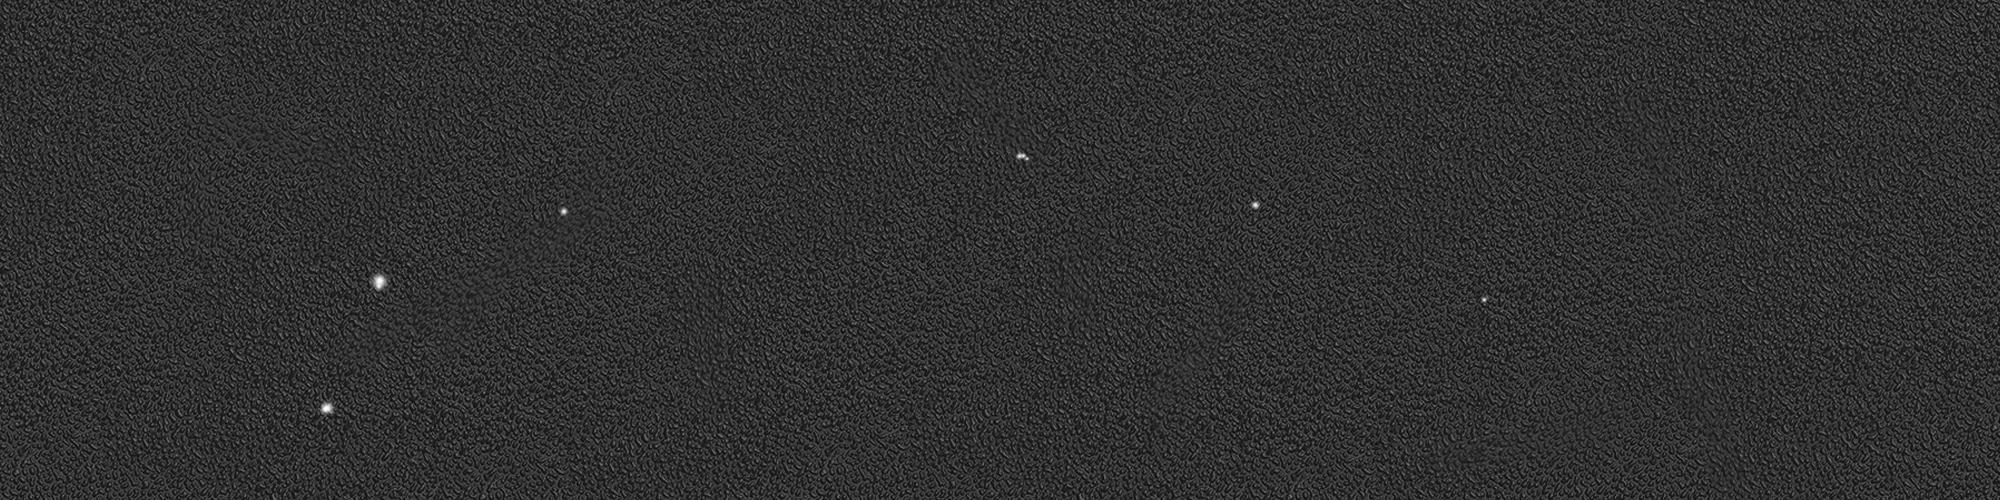Particles: (365, 272, 394, 295), (1246, 196, 1267, 216), (1011, 151, 1034, 166), (318, 401, 335, 416), (555, 205, 573, 221), (1477, 293, 1491, 306)
